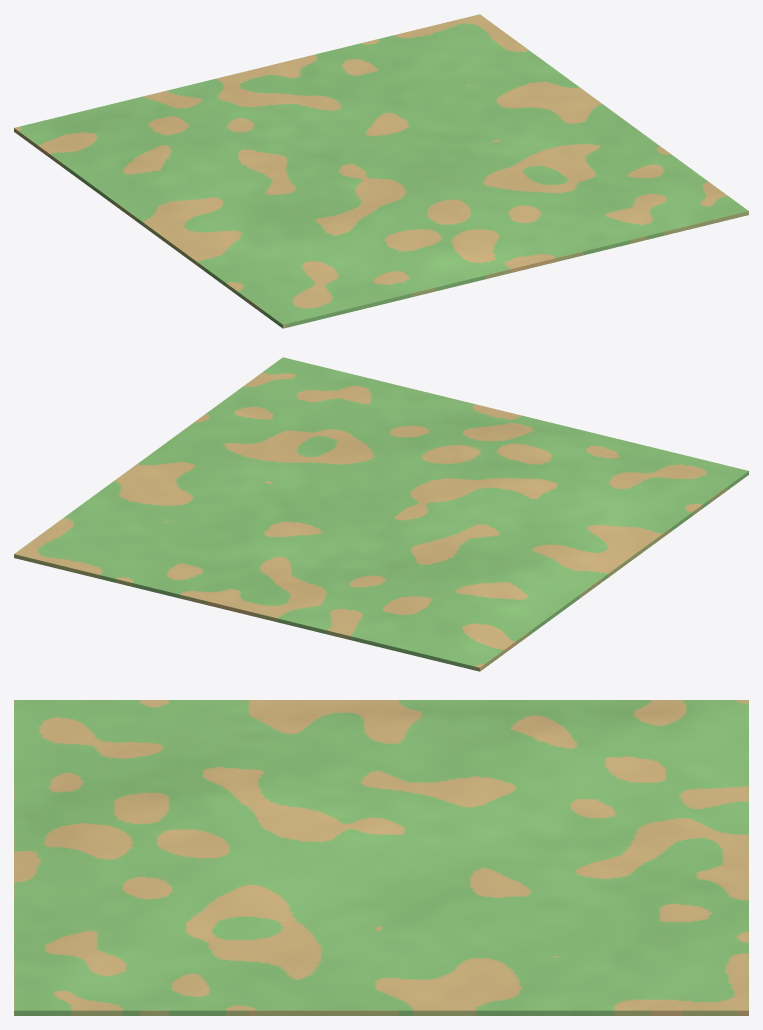
The model's file is Grass_Flat_11.obj.
3 renders of one model, top to bottom at view 1: azimuth 30°, elevation 25°; view 2: azimuth 150°, elevation 25°; view 3: azimuth 270°, elevation 25°, orthographic. The views are drawn at different scales.
Bounding box in the file's own units: 10 × 0.3148 × 10.
1 material, 1 textured.
